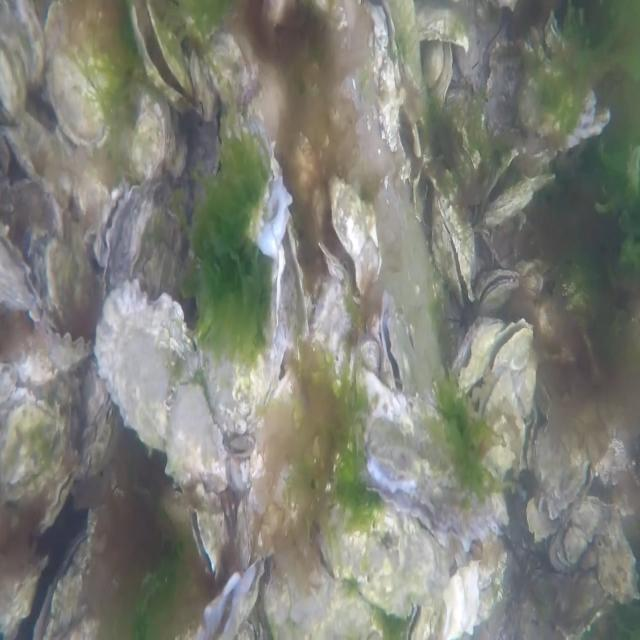Oyster-Closed: (43, 0, 129, 151), (484, 171, 558, 231), (388, 0, 424, 92), (39, 464, 81, 538), (40, 320, 94, 369), (356, 335, 381, 381)
Oyster-Indeterminate: (95, 278, 231, 490), (321, 505, 451, 619), (247, 368, 306, 518), (0, 393, 77, 506), (8, 106, 77, 208), (0, 0, 45, 120), (43, 228, 99, 320), (313, 278, 351, 387), (127, 93, 170, 180)
Oyster-Open: (366, 398, 502, 552), (204, 28, 294, 258), (366, 0, 422, 160), (316, 170, 383, 303), (33, 528, 113, 639), (530, 402, 593, 518), (130, 0, 195, 105), (192, 551, 266, 640), (476, 317, 534, 418), (434, 194, 482, 305), (276, 207, 310, 346), (449, 315, 506, 392), (94, 176, 140, 270), (0, 214, 44, 311), (380, 290, 413, 396), (188, 500, 228, 575), (479, 264, 522, 306)
